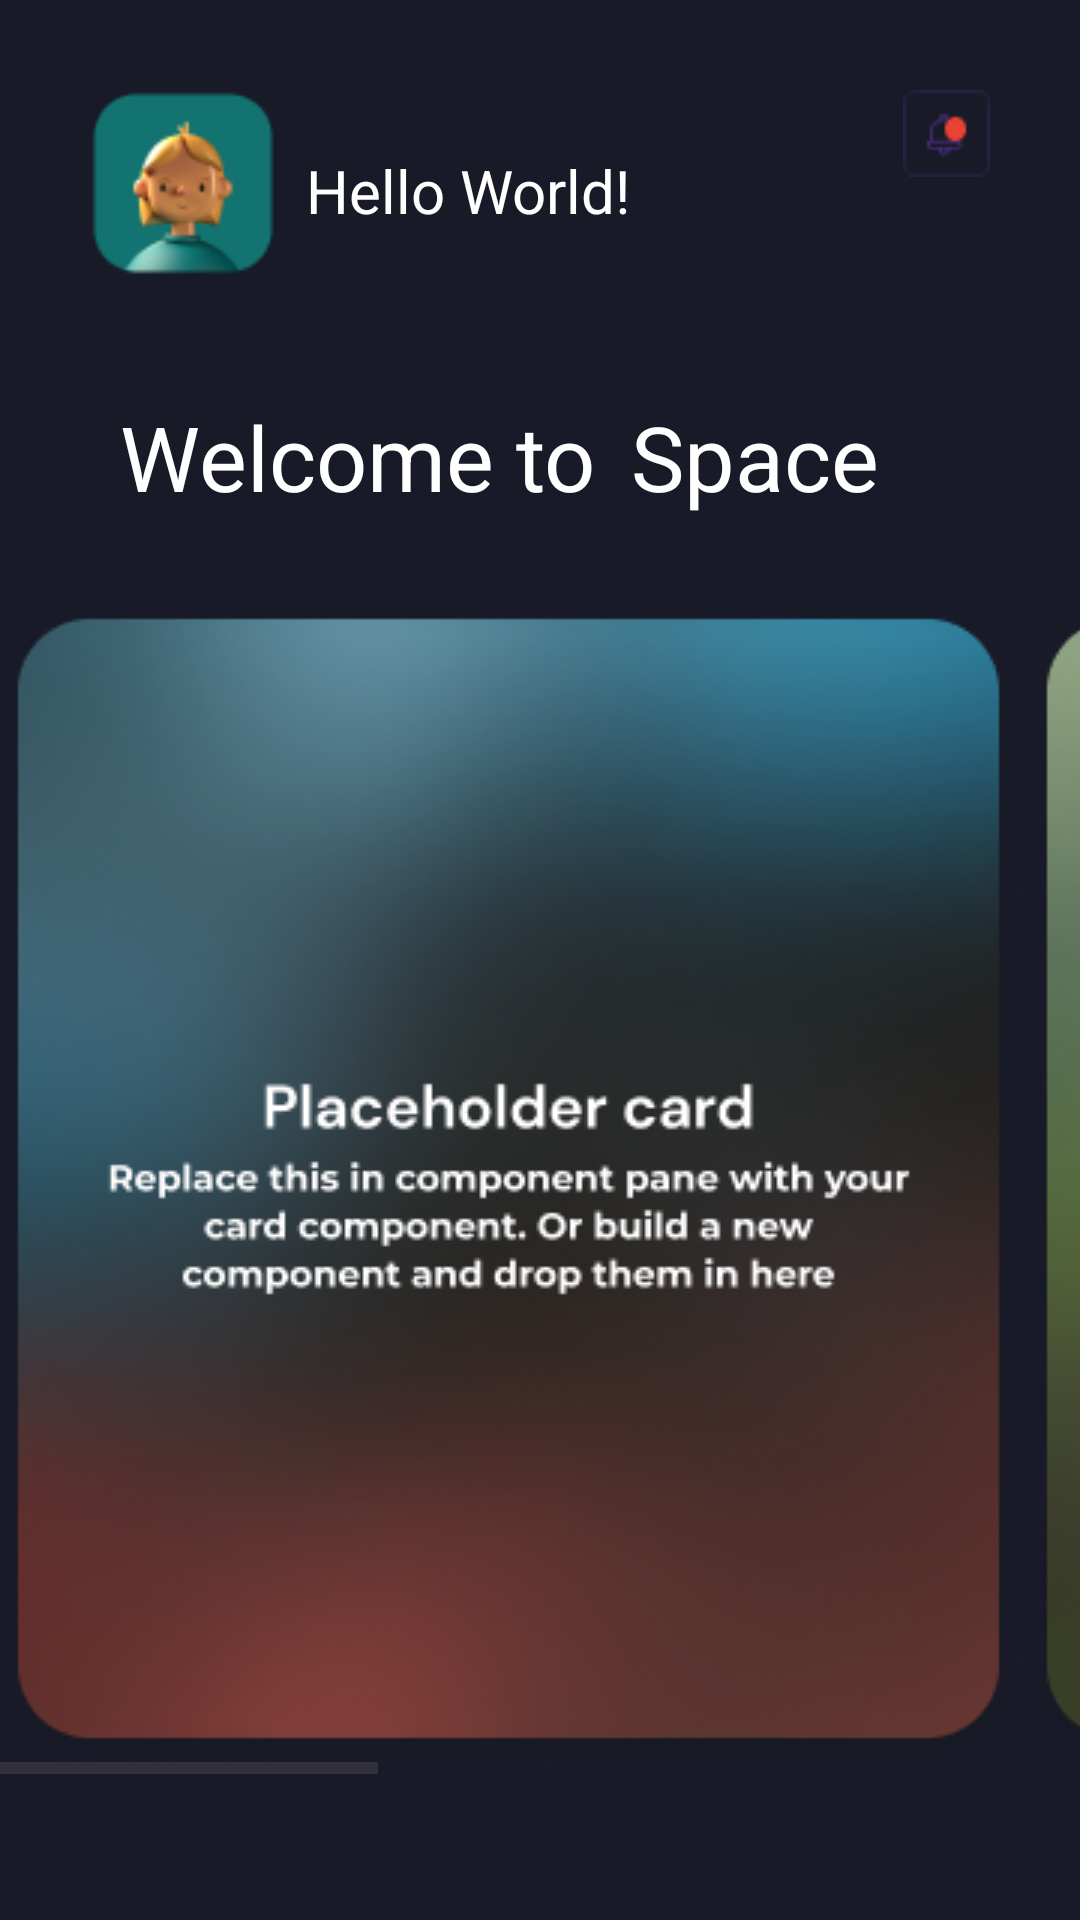

Screen size 1080 × 1920. Icon name, then its box in pixels as box=[x1, y1, x2, y2]:
notification: box=[903, 90, 990, 177]
